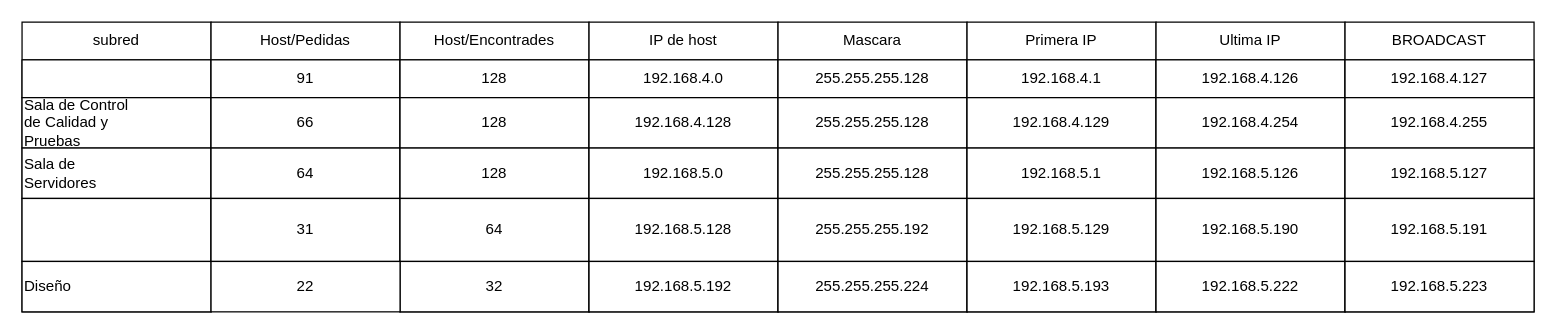
Some shapes in this 1556 by 334 pixel diagram are drawn without their labels. The shapes that lost their labels are listed below. From the top down, each one's centre as x and y in pixels, then its label:
point 116,78: Tesoreria
point 116,229: Ofcinas de Recursos Humanos
